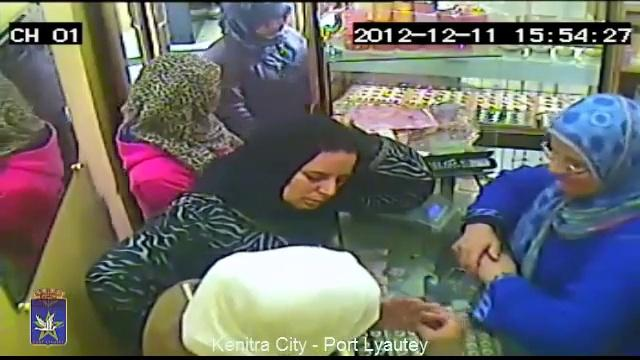Customer-Bagpack: (364, 134, 430, 217)
Product: (412, 302, 438, 331)
Product-Picked: (152, 233, 449, 360)
Regular: (456, 73, 640, 360), (116, 37, 248, 188), (247, 109, 378, 231), (224, 0, 323, 106)
